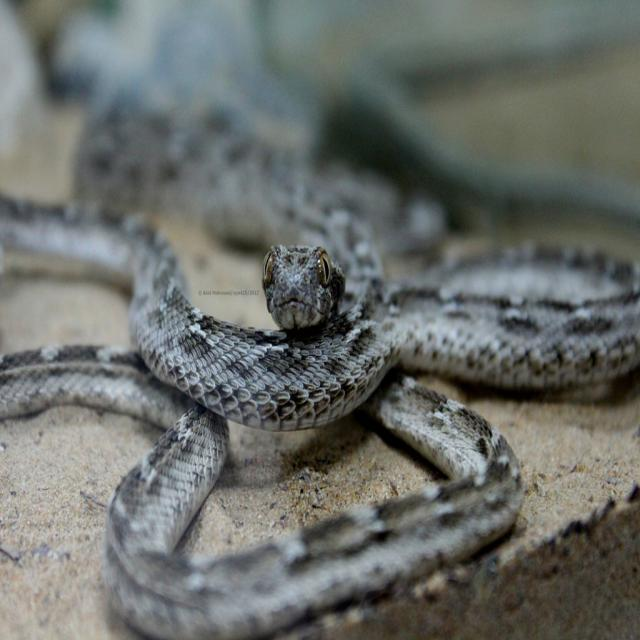Snake: (1, 182, 638, 638)
